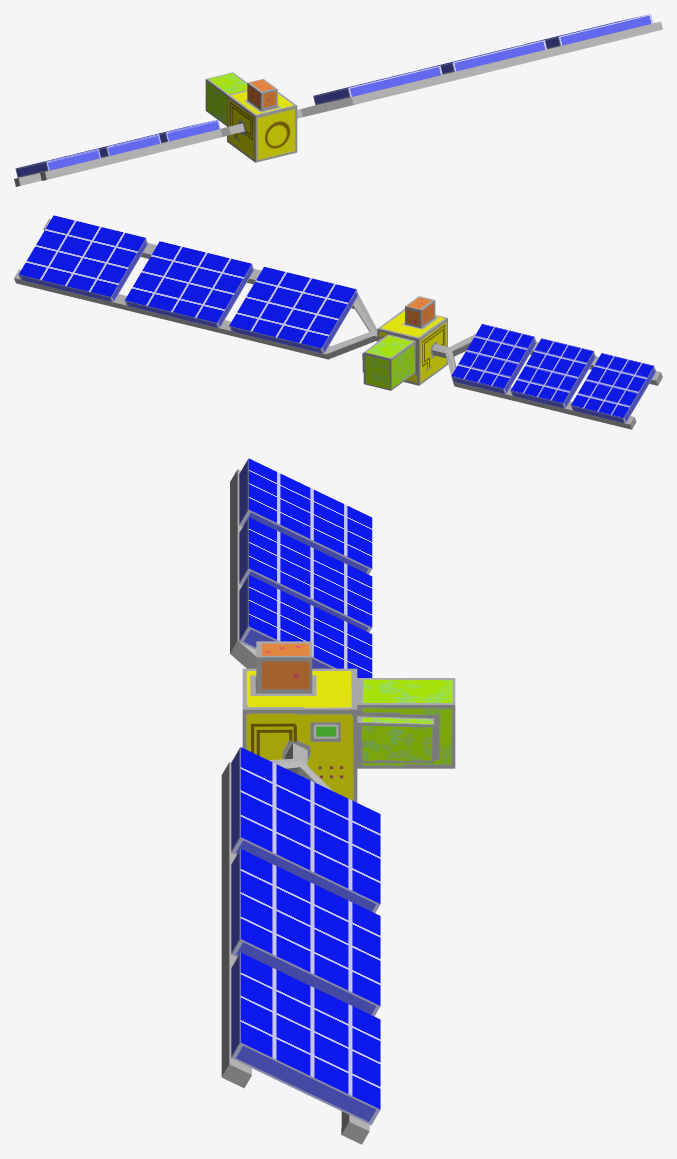
Rendered from Satellite.FBX.
The picture shows the model from 3 angles, top to bottom: view 1: azimuth 30°, elevation 25°; view 2: azimuth 150°, elevation 25°; view 3: azimuth 270°, elevation 25°; orthographic projection. The views are drawn at different scales.
Visible parts, largest first — view 1: Satellite; view 2: Satellite; view 3: Satellite.
Boxes of the visible parts, x1=… form: Satellite: x1=14, y1=14, x2=662, y2=186; Satellite: x1=14, y1=215, x2=662, y2=429; Satellite: x1=221, y1=458, x2=455, y2=1144.
Bounding box in the file's own units: 15903 × 2623 × 1610.
